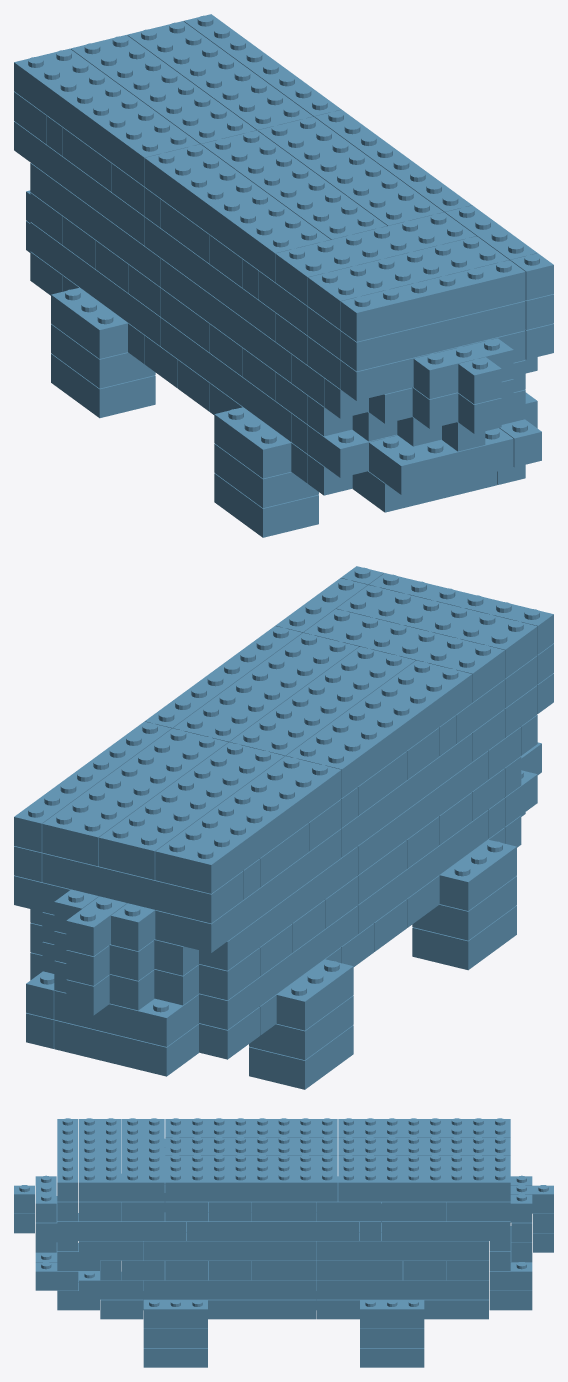
Rendered from 107_bus_L2.glb.
The picture shows the model from 3 angles, top to bottom: view 1: azimuth 30°, elevation 25°; view 2: azimuth 150°, elevation 25°; view 3: azimuth 270°, elevation 25°; orthographic projection. The views are drawn at different scales.
Size of the model in its own units: 8.98 by 9.13 by 24.98.
